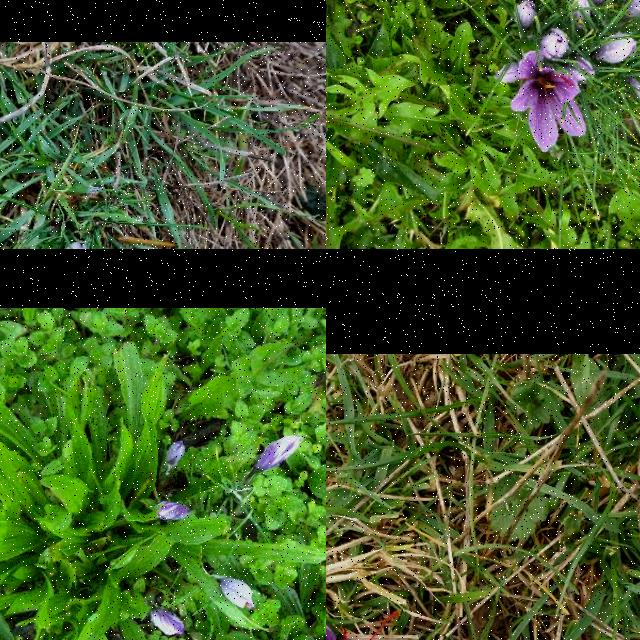flower: (508, 50, 588, 154), (256, 435, 302, 473), (593, 33, 637, 66), (220, 578, 256, 610), (539, 27, 571, 61), (150, 608, 186, 636), (568, 58, 596, 82), (516, 1, 538, 31), (156, 502, 192, 520), (568, 0, 592, 26), (165, 441, 185, 467), (623, 0, 640, 18), (630, 78, 640, 103), (66, 241, 88, 249)
